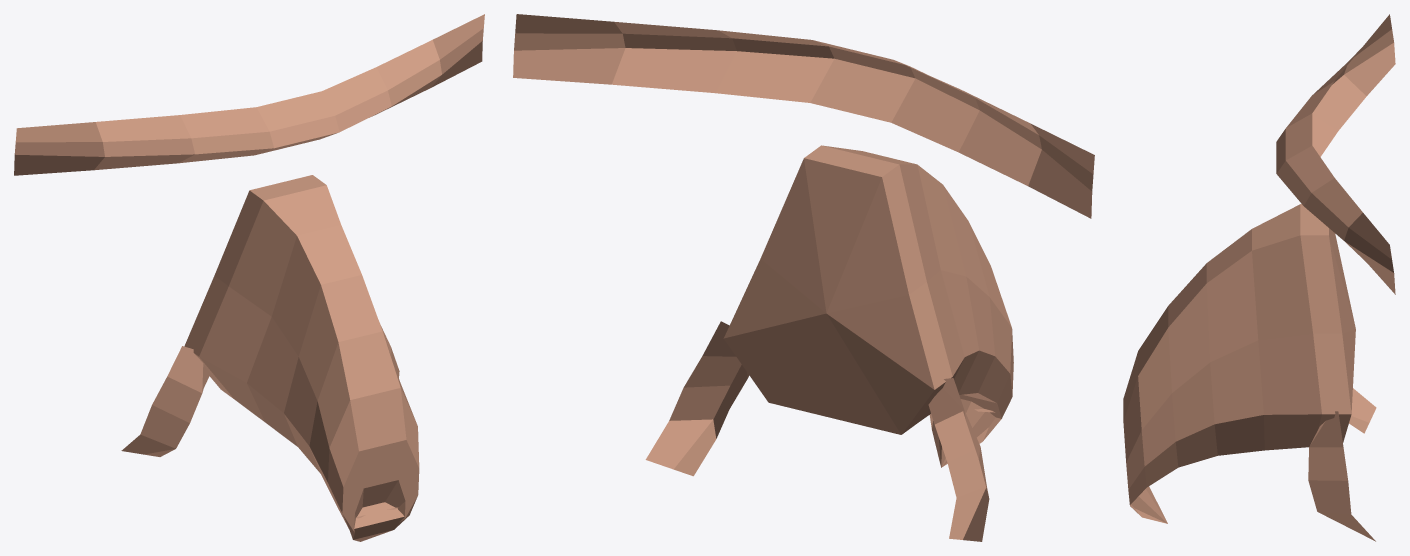
The model's file is nose_gb_droop.glb.
3 views of the same model, side by side, from view 1: azimuth 30°, elevation 25°; view 2: azimuth 150°, elevation 25°; view 3: azimuth 270°, elevation 25° (orthographic). The views are drawn at different scales.
Parts seen in each view (by area): view 1: Snout; view 2: Snout; view 3: Snout.
Boxes of the visible parts, box(x1,y1,x2,y2) form: Snout: box(14, 14, 484, 541); Snout: box(513, 14, 1094, 541); Snout: box(1123, 14, 1395, 541).
Bounding box in the file's own units: 0.148 × 0.118 × 0.0737.
1 material, 1 textured.
